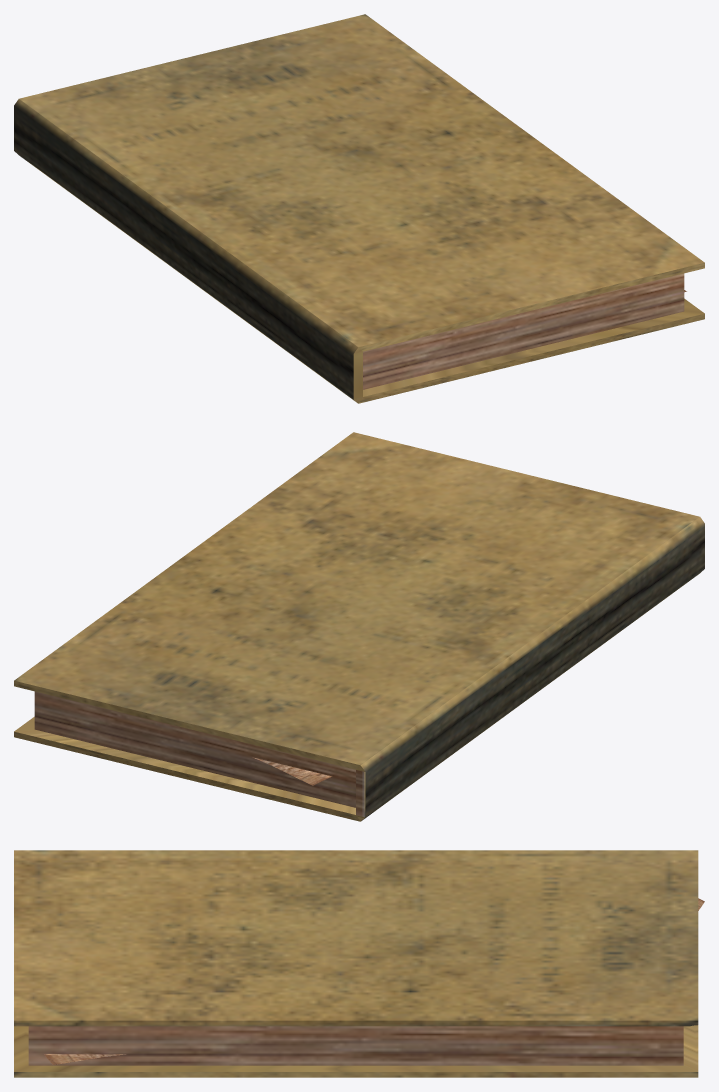
Rendered from Book05.fbx.
3 views of the same model, one above another, from view 1: azimuth 30°, elevation 25°; view 2: azimuth 150°, elevation 25°; view 3: azimuth 270°, elevation 25° (orthographic).
Visible parts, largest first — view 1: pCube365.004; view 2: pCube365.004; view 3: pCube365.004.
Boxes of the visible parts, box(x1,y1,x2,y2) form: pCube365.004: box(14, 14, 704, 403); pCube365.004: box(14, 432, 704, 821); pCube365.004: box(14, 850, 704, 1077).
Size of the model in its own units: 45.57 by 6.97 by 76.63.
